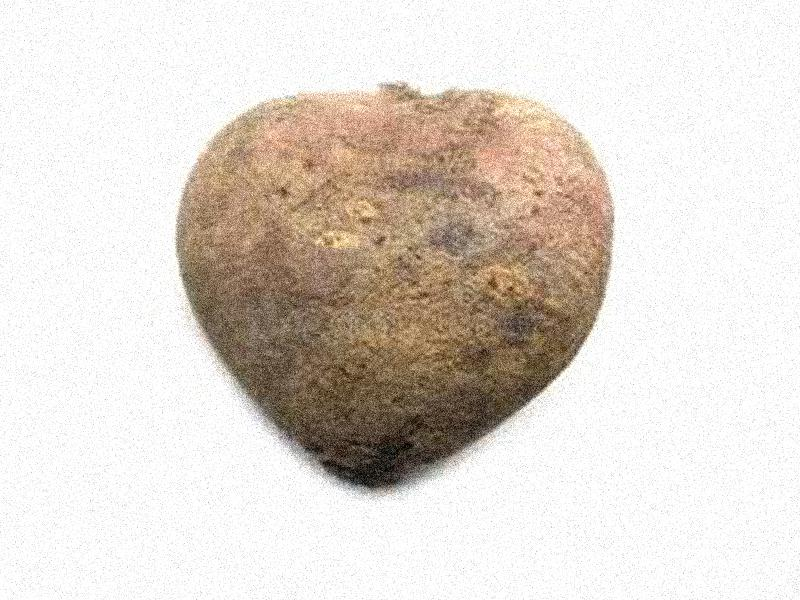Beet: (173, 87, 615, 486)
